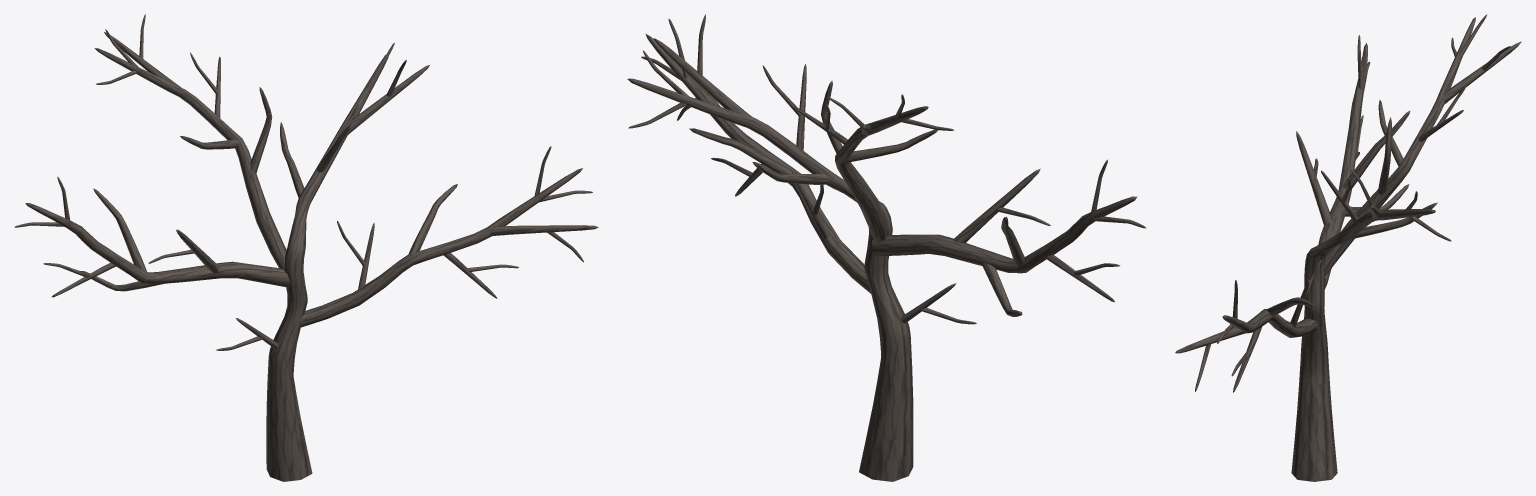
File: DeadTree_8.glb
3 views of the same model, side by side, from view 1: azimuth 30°, elevation 25°; view 2: azimuth 150°, elevation 25°; view 3: azimuth 270°, elevation 25° (orthographic). The views are drawn at different scales.
Parts seen in each view (by area): view 1: DeadTree_8; view 2: DeadTree_8; view 3: DeadTree_8.
Boxes of the visible parts, x1,y1,x2,y2 form: DeadTree_8: [14, 14, 598, 481]; DeadTree_8: [627, 14, 1146, 481]; DeadTree_8: [1175, 14, 1521, 481].
Bounding box in the file's own units: 8.17 × 6.28 × 4.8.
1 material, 1 textured.
